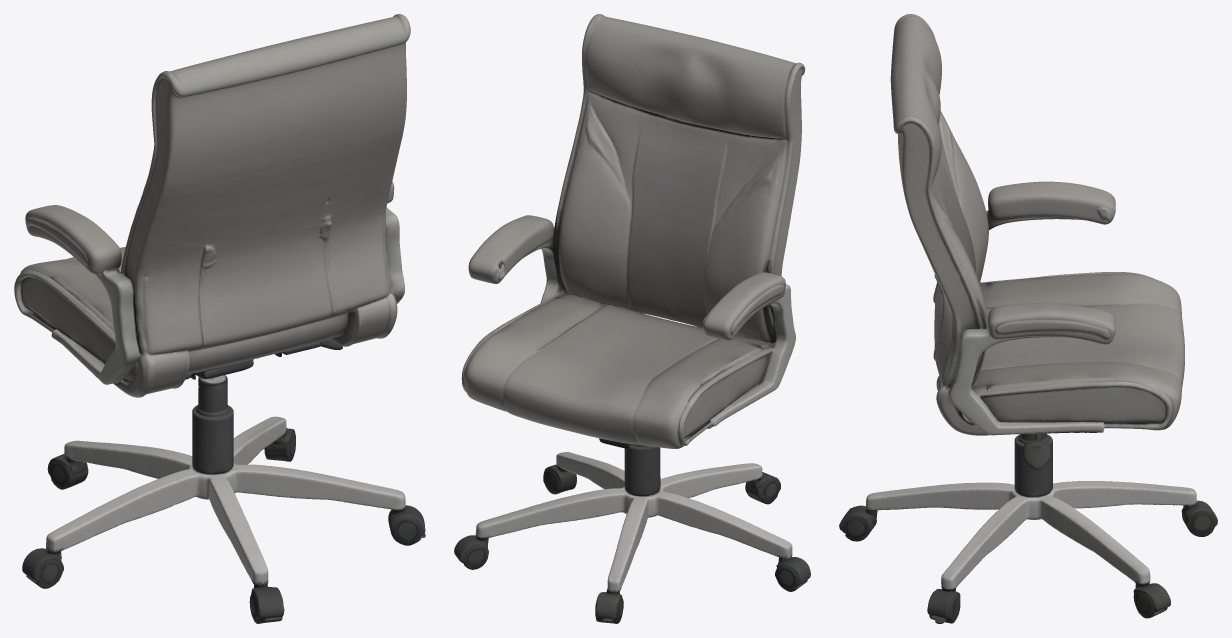
Rendered from modern_office_chair_padded_26.glb.
3 renders of one model, left to right at view 1: azimuth 30°, elevation 25°; view 2: azimuth 150°, elevation 25°; view 3: azimuth 270°, elevation 25°, orthographic. The views are drawn at different scales.
Parts seen in each view (by area): view 1: tripo_node_9371ff7f-a4f5-447f-a276-4711b65a7376; view 2: tripo_node_9371ff7f-a4f5-447f-a276-4711b65a7376; view 3: tripo_node_9371ff7f-a4f5-447f-a276-4711b65a7376.
Part boxes in pixels (bbox=[...]): tripo_node_9371ff7f-a4f5-447f-a276-4711b65a7376: bbox=[14, 14, 425, 623]; tripo_node_9371ff7f-a4f5-447f-a276-4711b65a7376: bbox=[454, 14, 810, 623]; tripo_node_9371ff7f-a4f5-447f-a276-4711b65a7376: bbox=[839, 14, 1217, 623].
Size of the model in its own units: 0.6717 by 1 by 0.6952.
Materials: 1 (1 with a texture image).
